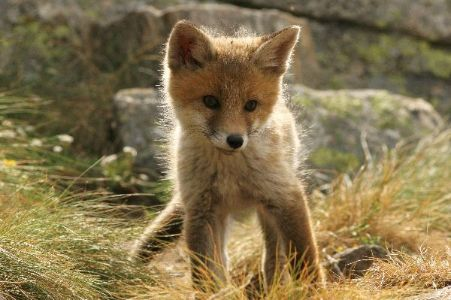fox: (148, 18, 324, 292)
